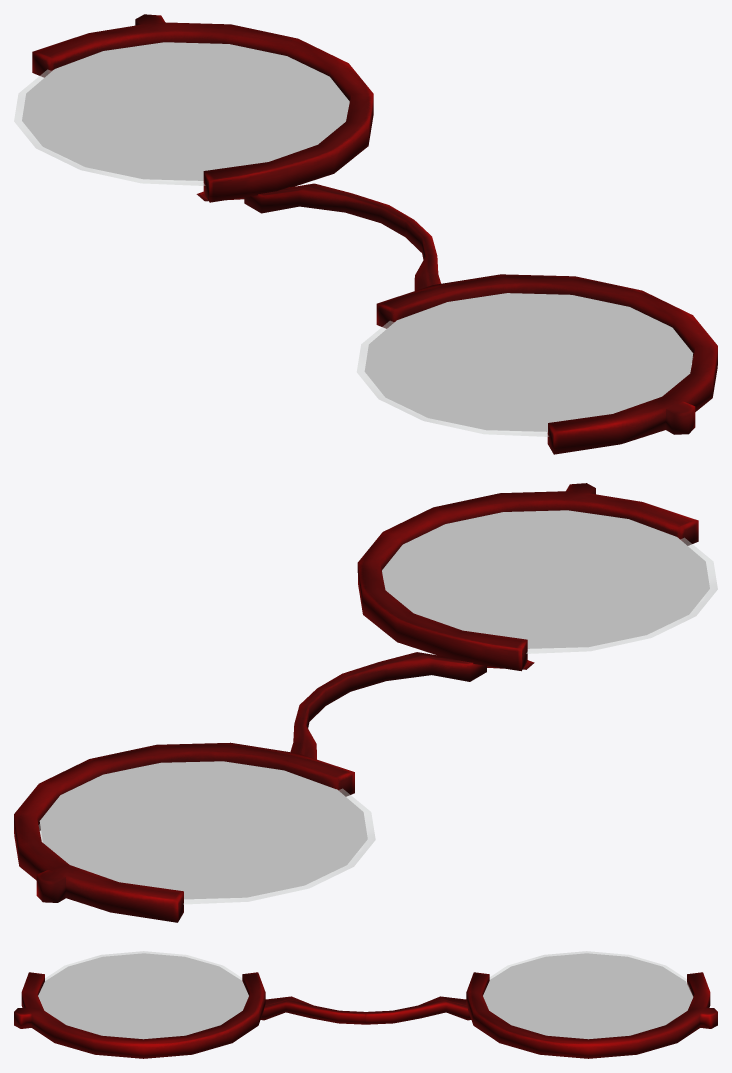
The picture shows the model from 3 angles, top to bottom: view 1: azimuth 30°, elevation 25°; view 2: azimuth 150°, elevation 25°; view 3: azimuth 270°, elevation 25°; orthographic projection. The views are drawn at different scales.
Parts seen in each view (by area): view 1: Object01, G1245, Object02; view 2: Object01, G1245, Object02; view 3: Object01, G1245, Object02.
Part boxes in pixels (left/top/right/bottom): Object01: left=22, top=42, right=693, bottom=431; G1245: left=32, top=14, right=717, bottom=454; Object02: left=14, top=69, right=693, bottom=436; Object01: left=39, top=510, right=709, bottom=899; G1245: left=14, top=483, right=698, bottom=922; Object02: left=38, top=537, right=717, bottom=904; Object01: left=38, top=953, right=693, bottom=1039; G1245: left=14, top=972, right=717, bottom=1058; Object02: left=45, top=951, right=693, bottom=996.
Bounding box in the file's own units: 0.0639 × 0.00735 × 0.1918.
